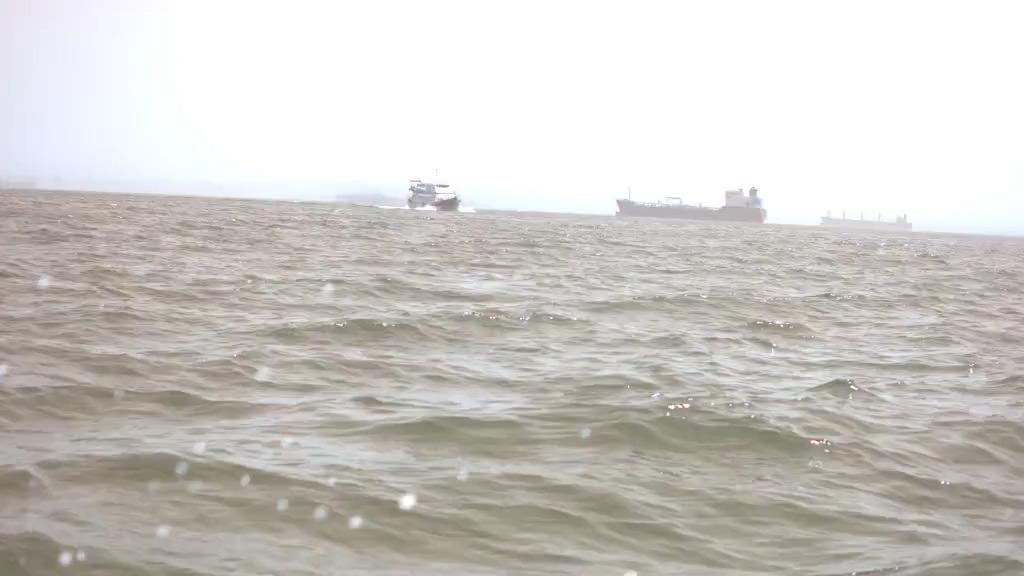PassengerShip: (400, 170, 464, 214)
